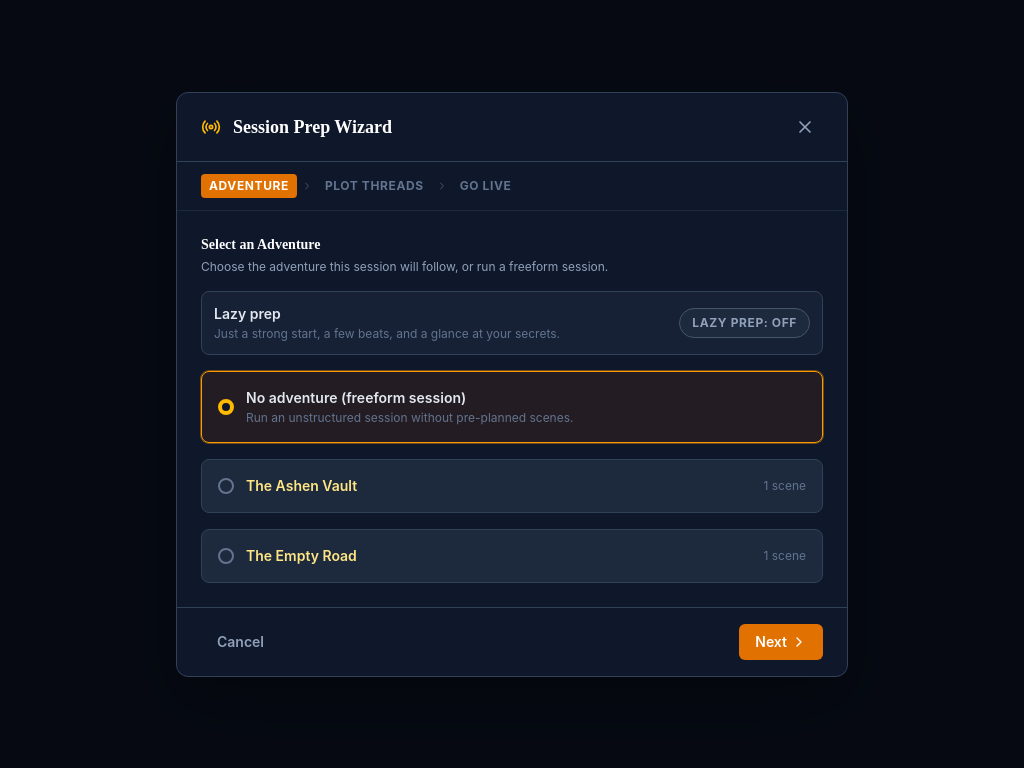
Scenario: SessionPrepWizard — the Secrets Check step with no roster › lists every unrevealed secret when the chosen adventure has no cast and no place
Click the button "The Empty Road 1 scene".
click(301, 555)  # box x1=201 y1=528 x2=823 y2=582
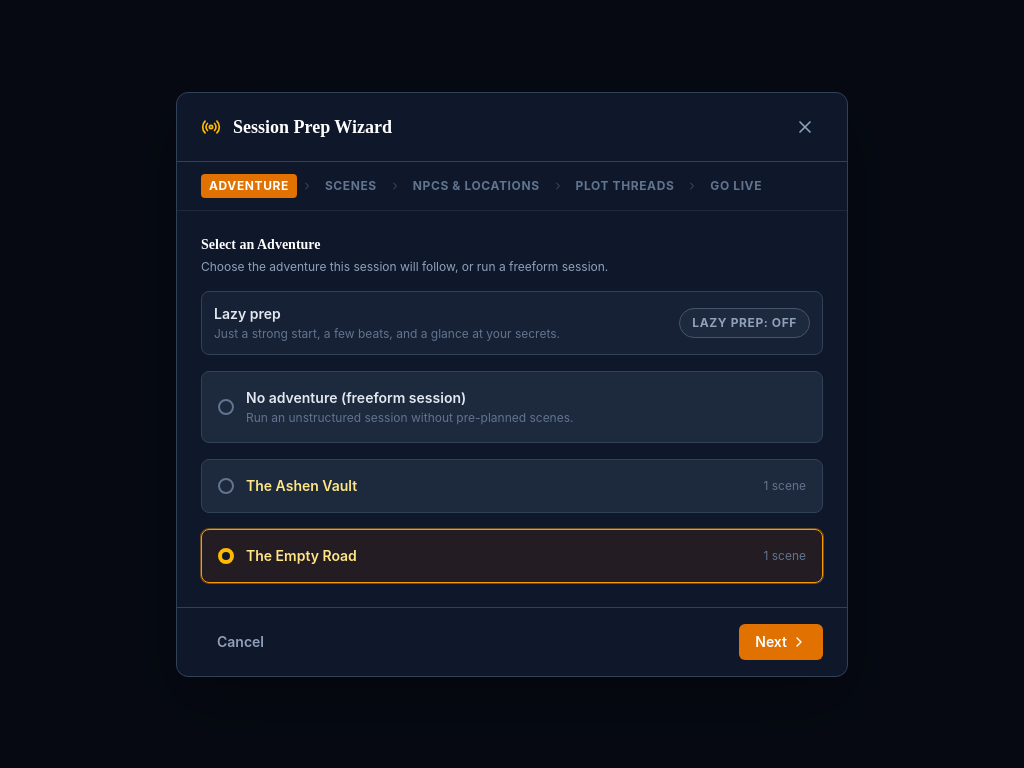
Click the button "Lazy prep: off".
click(745, 322)  # box x1=679 y1=308 x2=810 y2=338
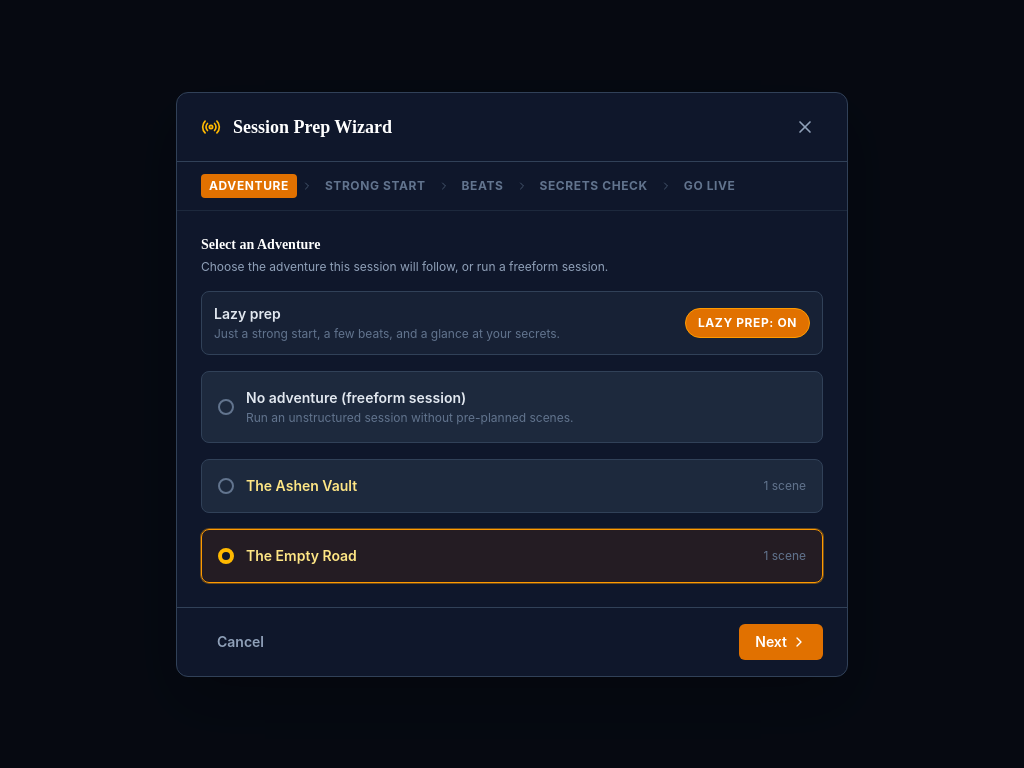
Click the button "Secrets Check".
click(594, 186)  # box x1=532 y1=174 x2=656 y2=198
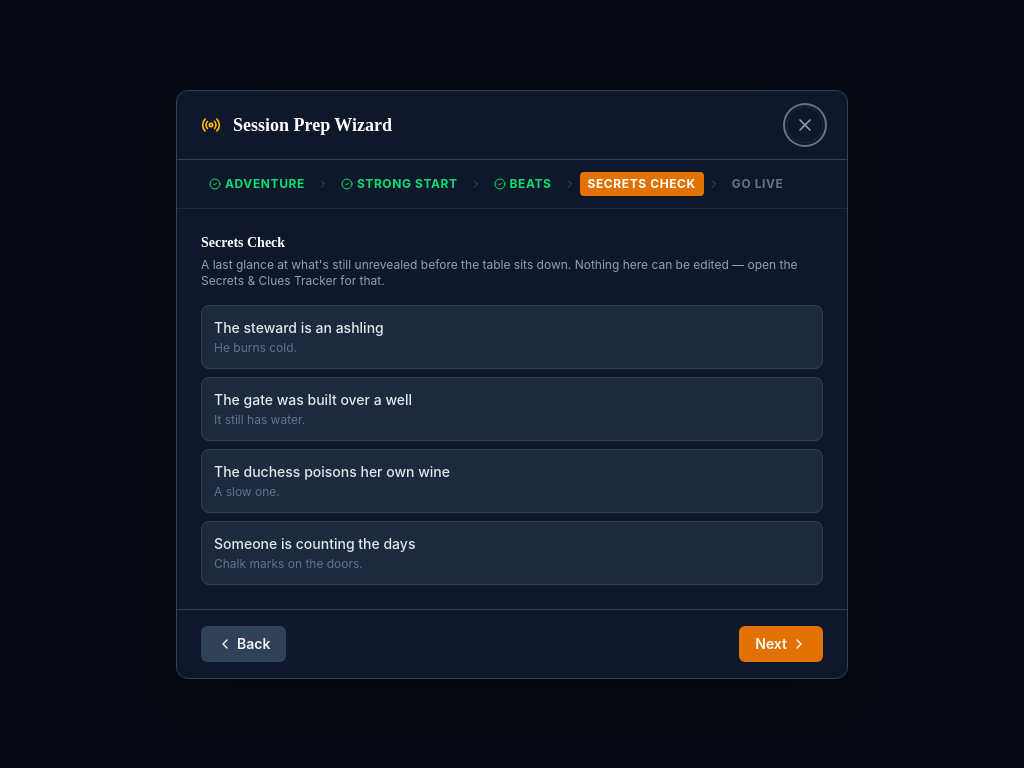
expect the text "The steward is an ashling" is shown: met, box x1=214 y1=318 x2=384 y2=336
expect the text "The duchess poisons her own wine" is shown: met, box x1=214 y1=462 x2=450 y2=480
expect the text "Someone is counting the days" is shown: met, box x1=214 y1=534 x2=415 y2=552
